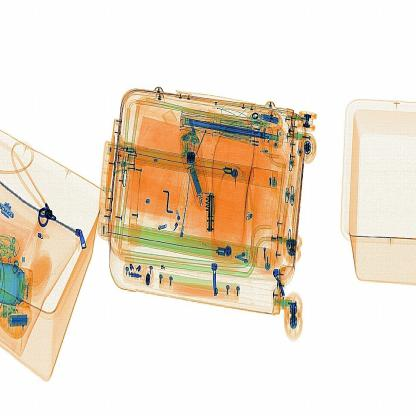scissors: (204, 193, 218, 238)
